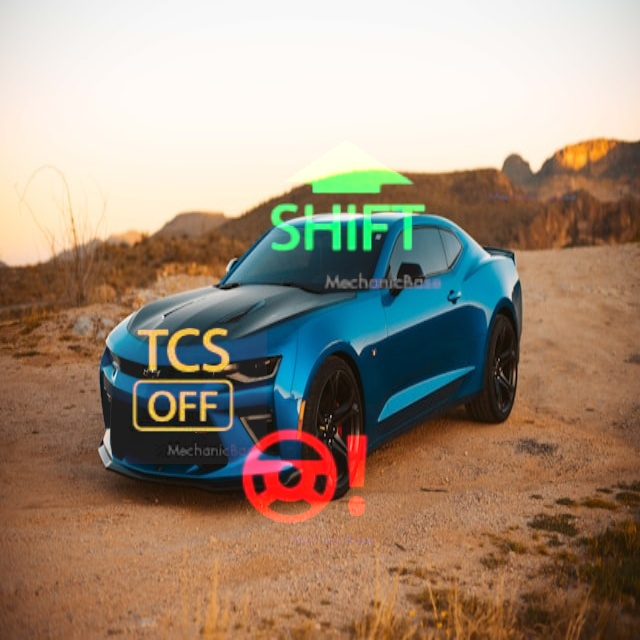symbol: (245, 95, 449, 299), (103, 300, 267, 464), (427, 53, 583, 209), (231, 404, 379, 552)
